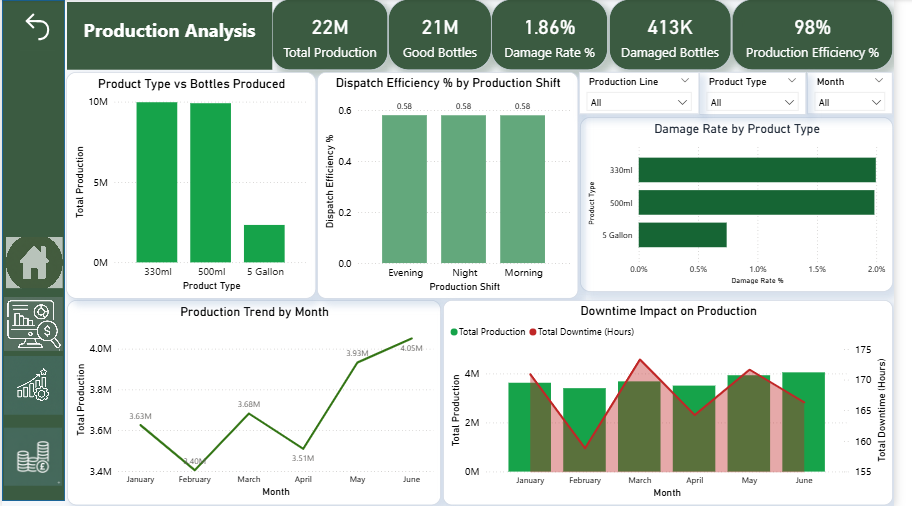

Layout of this report page (visuals, bound fields, positions):
{"tool":"powerbi","page":{"name":"Production Analysis","canvas":[1291,735],"ordinal":1},"visuals":[{"type":"card","fields":{"Values":["Measure Table.Total Production"]},"box":[390.6,0,167.8,102.7],"z":0},{"type":"card","fields":{"Values":["Measure Table.Good Bottles"]},"box":[558.5,0,150.5,102.7],"z":1000},{"type":"card","fields":{"Values":["Measure Table.Production Efficiency %"]},"box":[1056.2,0,232.9,102.7],"z":2000},{"type":"card","fields":{"Values":["Measure Table.Waste Rate %"]},"box":[707.5,0,169.3,102.7],"z":3000},{"type":"card","fields":{"Values":["Measure Table.Damaged Bottles"]},"box":[878.2,0,176.5,102.7],"z":4000},{"type":"lineChart","title":"Production Trend by Month","fields":{"Category":["Rawda_procudtion_sales.Date.Variation.Date Hierarchy.Month"],"Y":["Measure Table.Total Production"]},"box":[94,435.5,541.1,296.6],"z":5000},{"type":"clusteredColumnChart","title":"Product Type vs Bottles Produced","fields":{"Category":["Rawda_procudtion_sales.Product Type"],"Y":["Measure Table.Total Production"]},"box":[92.6,105.6,361.7,328.4],"z":6000},{"type":"barChart","title":"Damage Rate  by Product Type","fields":{"Category":["Rawda_procudtion_sales.Product Type"],"Y":["Measure Table.Damage Rate %"]},"box":[836.3,170.7,452.9,253.2],"z":7000},{"type":"clusteredColumnChart","fields":{"Category":["Rawda_procudtion_sales.Production Shift"],"Y":["Measure Table.Dispatch Efficiency %"]},"box":[455.8,105.6,377.6,328.4],"z":8000},{"type":"lineClusteredColumnComboChart","title":"Downtime Impact on Production","fields":{"Category":["Rawda_procudtion_sales.Date.Variation.Date Hierarchy.Month"],"Y":["Measure Table.Total Production"],"Y2":["Measure Table.Total Downtime (Hours)"]},"box":[638.1,435.5,651.1,296.6],"z":9000},{"type":"shape","box":[0,2,91.2,724.9],"z":10000,"group":"g1"},{"type":"slicer","fields":{"Values":["Rawda_procudtion_sales.Date.Variation.Date Hierarchy.Month"]},"box":[1164.7,105.6,124.4,60.8],"z":11000},{"type":"slicer","fields":{"Values":["Rawda_procudtion_sales.Product Type"]},"box":[1008.5,105.6,154.8,62.2],"z":12000},{"type":"slicer","fields":{"Values":["Rawda_procudtion_sales.Production Line"]},"box":[834.8,105.6,173.6,60.8],"z":13000},{"type":"actionButton","box":[5.8,344.9,82.5,73.8],"z":15000,"group":"g1"},{"type":"actionButton","box":[2.9,517.1,85.4,85.4],"z":16000,"group":"g1"},{"type":"actionButton","box":[2.9,606.8,83.9,111.4],"z":17000,"group":"g1"},{"type":"actionButton","title":"Clear Filter","box":[26,6.3,50.6,69.4],"z":18000,"group":"g1"},{"type":"textbox","box":[94,4.3,296.6,98.4],"z":19000},{"type":"actionButton","box":[2.9,431.7,85.4,78.1],"z":20000,"group":"g1"},{"type":"group","id":"g1","title":"Group 1","box":[0,2,91.2,724.9],"z":20001}]}

Visuals, with their boxes on the page's 1291x735 design canvas (x1, y1, x2, y2). These are canvas units, not pixel positions in the 912x506 screenshot, which may show the page scaled, cropped or inside an application window:
card - Measure Table.Total Production: [x1=391, y1=0, x2=558, y2=103]
card - Measure Table.Good Bottles: [x1=558, y1=0, x2=709, y2=103]
card - Measure Table.Production Efficiency %: [x1=1056, y1=0, x2=1289, y2=103]
card - Measure Table.Waste Rate %: [x1=708, y1=0, x2=877, y2=103]
card - Measure Table.Damaged Bottles: [x1=878, y1=0, x2=1055, y2=103]
"Production Trend by Month" lineChart: [x1=94, y1=436, x2=635, y2=732]
"Product Type vs Bottles Produced" clusteredColumnChart: [x1=93, y1=106, x2=454, y2=434]
"Damage Rate  by Product Type" barChart: [x1=836, y1=171, x2=1289, y2=424]
clusteredColumnChart - Rawda_procudtion_sales.Production Shift x Measure Table.Dispatch Efficiency %: [x1=456, y1=106, x2=833, y2=434]
"Downtime Impact on Production" lineClusteredColumnComboChart: [x1=638, y1=436, x2=1289, y2=732]
shape: [x1=0, y1=2, x2=91, y2=727]
slicer - Rawda_procudtion_sales.Date.Variation.Date Hierarchy.Month: [x1=1165, y1=106, x2=1289, y2=166]
slicer - Rawda_procudtion_sales.Product Type: [x1=1008, y1=106, x2=1163, y2=168]
slicer - Rawda_procudtion_sales.Production Line: [x1=835, y1=106, x2=1008, y2=166]
actionButton: [x1=6, y1=345, x2=88, y2=419]
actionButton: [x1=3, y1=517, x2=88, y2=602]
actionButton: [x1=3, y1=607, x2=87, y2=718]
"Clear Filter" actionButton: [x1=26, y1=6, x2=77, y2=76]
textbox: [x1=94, y1=4, x2=391, y2=103]
actionButton: [x1=3, y1=432, x2=88, y2=510]
"Group 1" group: [x1=0, y1=2, x2=91, y2=727]
